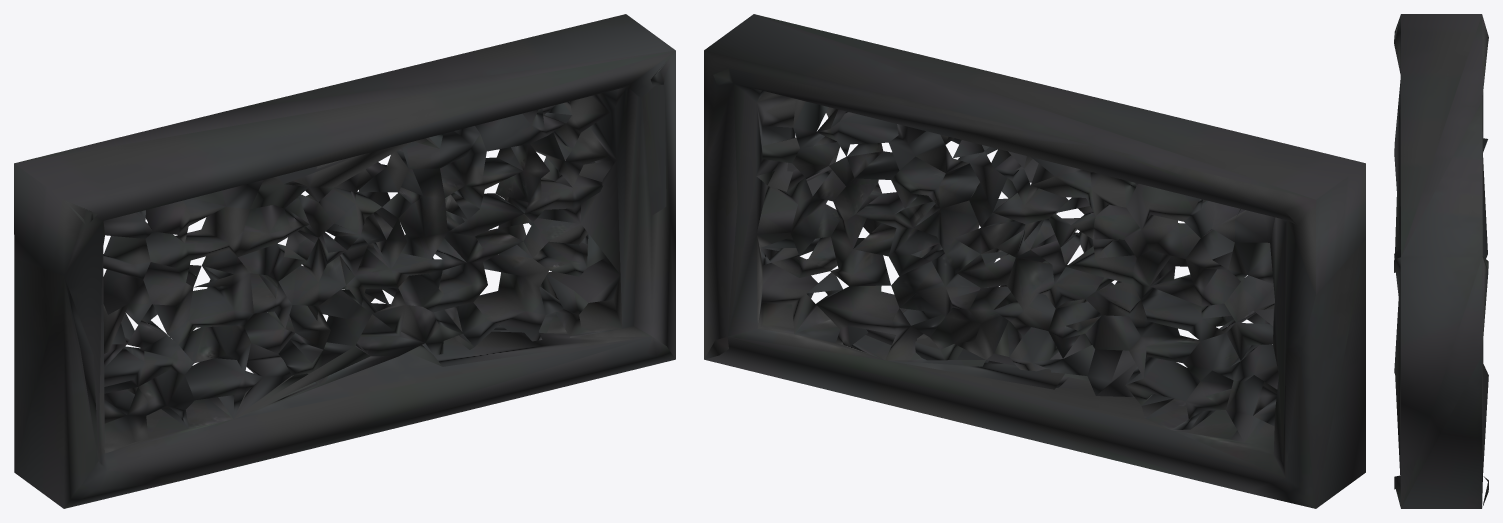
The picture shows the model from 3 angles, left to right: view 1: azimuth 30°, elevation 25°; view 2: azimuth 150°, elevation 25°; view 3: azimuth 270°, elevation 25°; orthographic projection. The views are drawn at different scales.
Bounding box in the file's own units: 1.9 × 0.9175 × 0.3127.
Materials: 1 (1 with a texture image).
